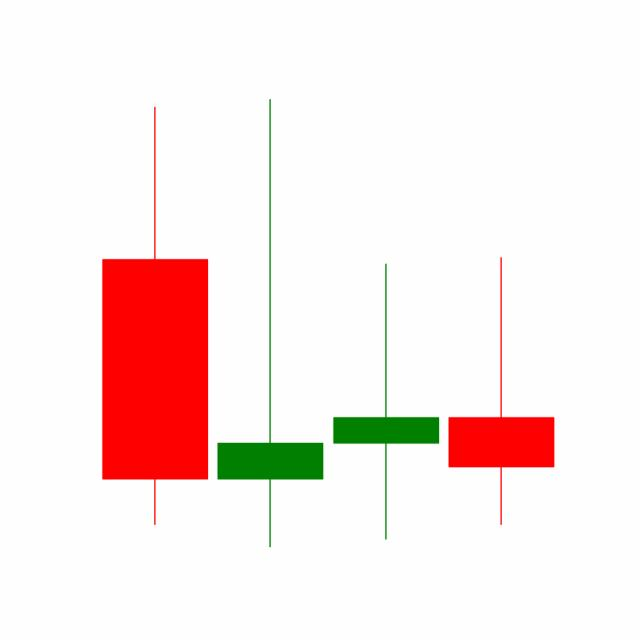Spinning Top: (443, 254, 559, 528)
